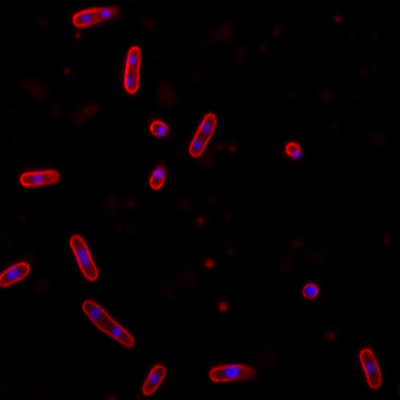CAM: (80, 298, 136, 350), (68, 233, 100, 282), (188, 111, 218, 158), (356, 347, 383, 391), (122, 43, 141, 94), (17, 167, 61, 189), (140, 363, 168, 397), (0, 259, 29, 290)
Oblique: (70, 4, 121, 27), (206, 362, 258, 384), (146, 161, 169, 190), (146, 120, 172, 139), (283, 138, 302, 159), (301, 280, 320, 301)
Vesicle: (216, 299, 230, 315), (324, 329, 338, 343), (332, 11, 344, 24), (194, 213, 206, 226), (202, 256, 215, 268), (72, 29, 83, 41), (61, 66, 71, 77)
